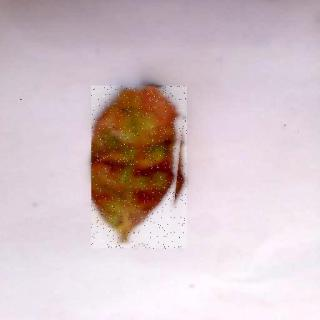Algal Leaf: (92, 88, 188, 251)
